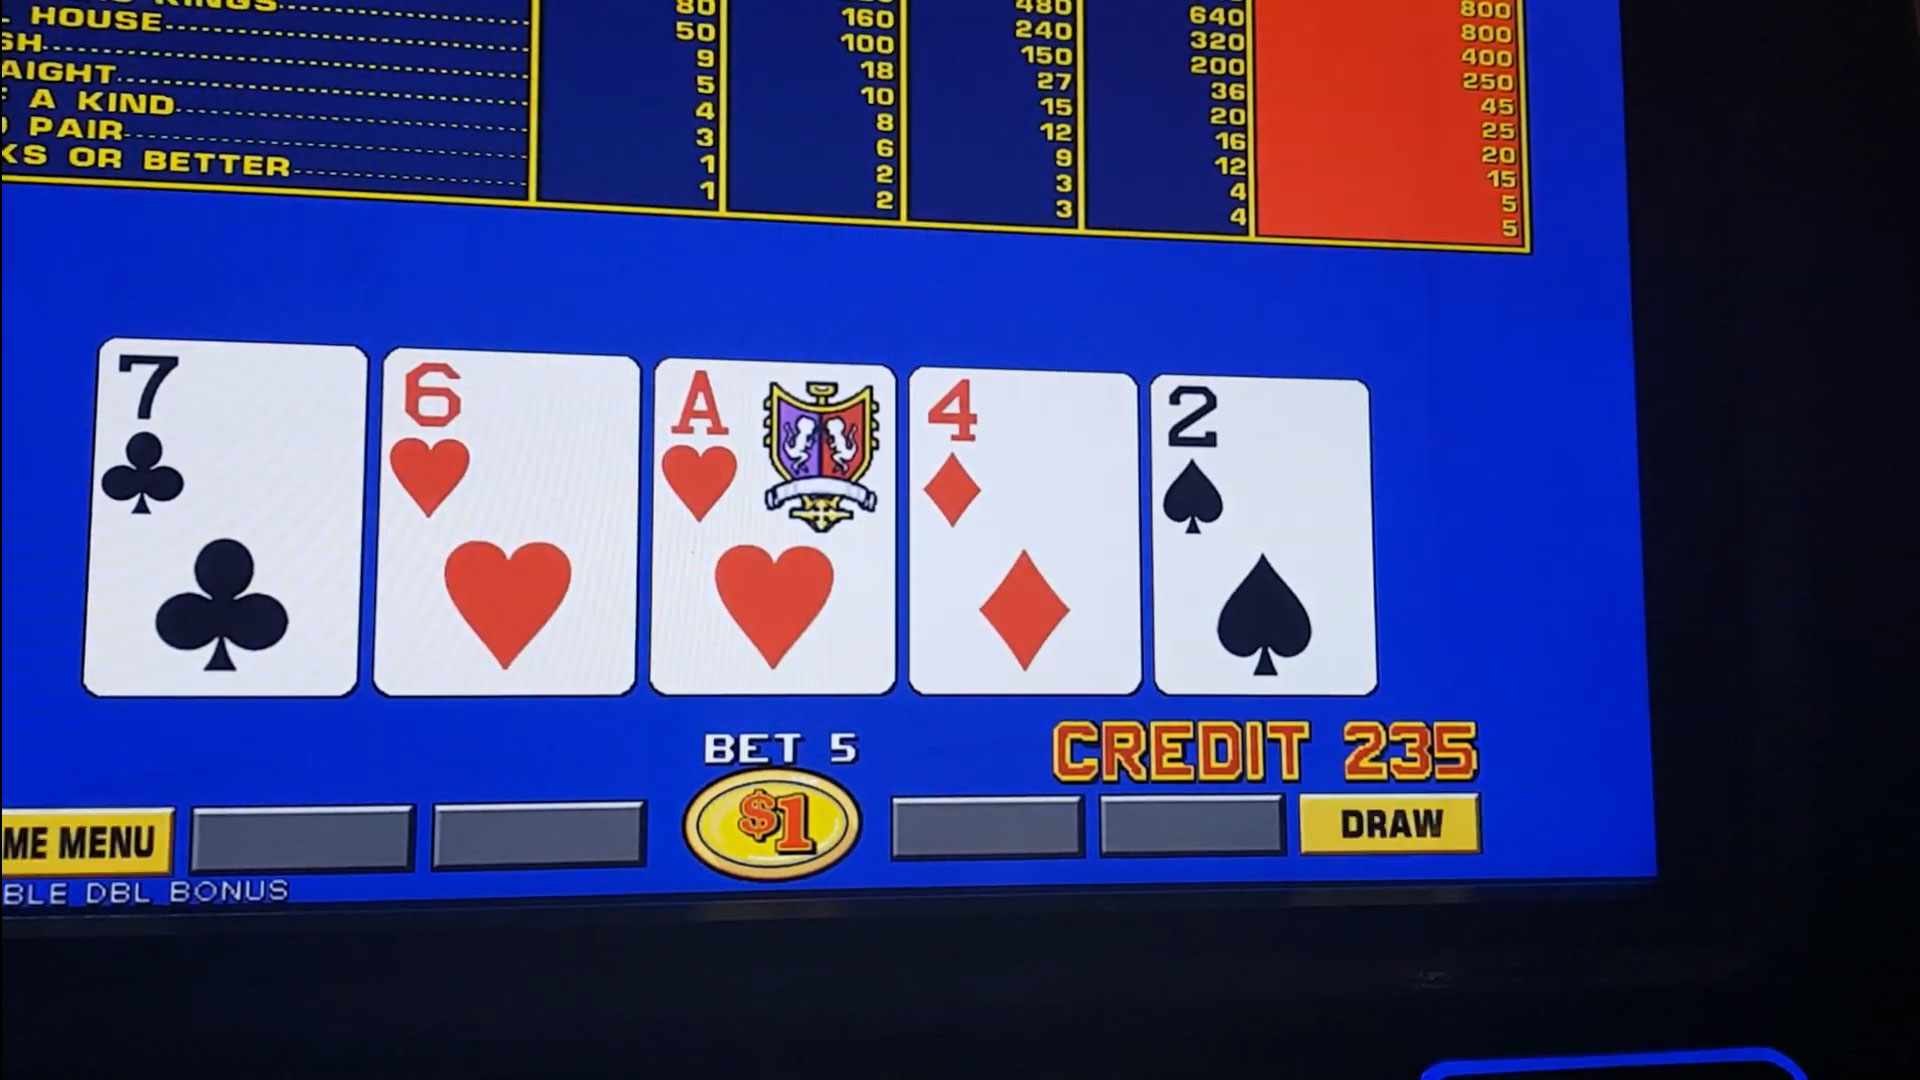C7: (108, 349, 357, 529)
D4: (909, 377, 1134, 546)
H6: (386, 361, 633, 531)
HA: (655, 369, 889, 539)
S2: (1156, 377, 1364, 538)
